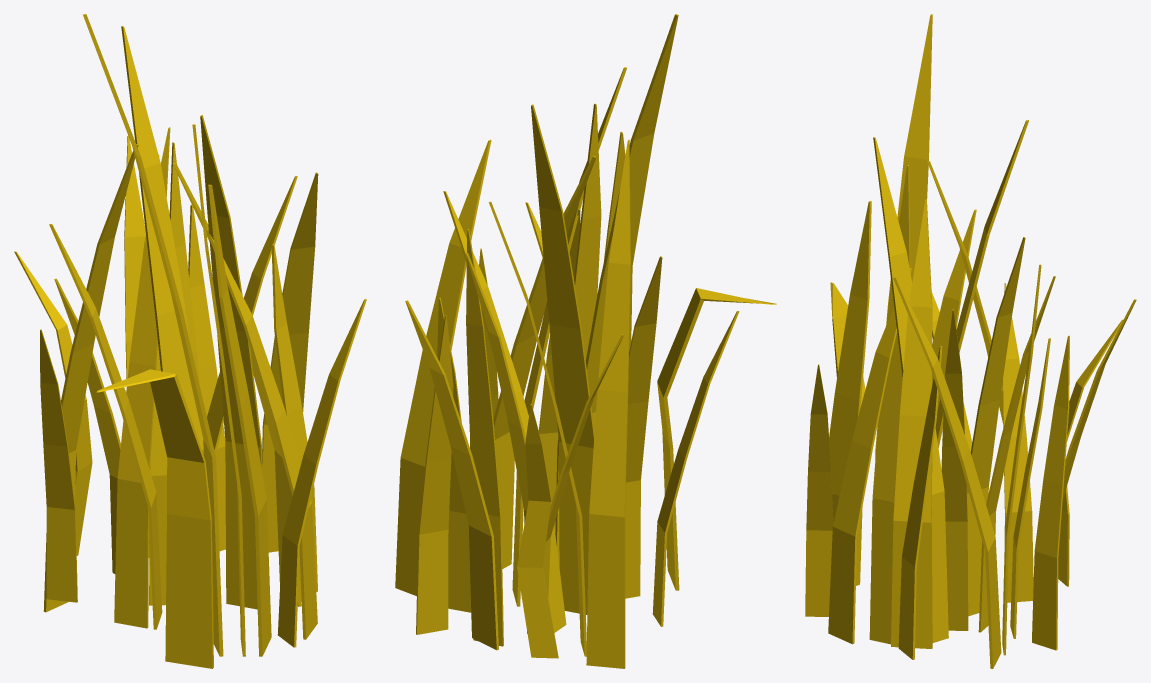
File: Schilf_03_rdy.fbx
The picture shows the model from 3 angles, left to right: view 1: azimuth 30°, elevation 25°; view 2: azimuth 150°, elevation 25°; view 3: azimuth 270°, elevation 25°; orthographic projection. The views are drawn at different scales.
Parts seen in each view (by area): view 1: Schilf_03; view 2: Schilf_03; view 3: Schilf_03.
Boxes of the visible parts, box(x1,y1,x2,y2) form: Schilf_03: box(14, 14, 366, 668); Schilf_03: box(395, 14, 776, 668); Schilf_03: box(805, 14, 1136, 668).
Size of the model in its own units: 1188 by 2402 by 1265.
